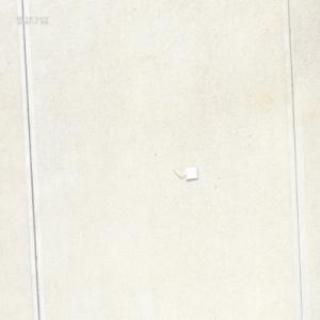LuggageTagtrack_idkeyframe: (170, 163, 198, 180)
